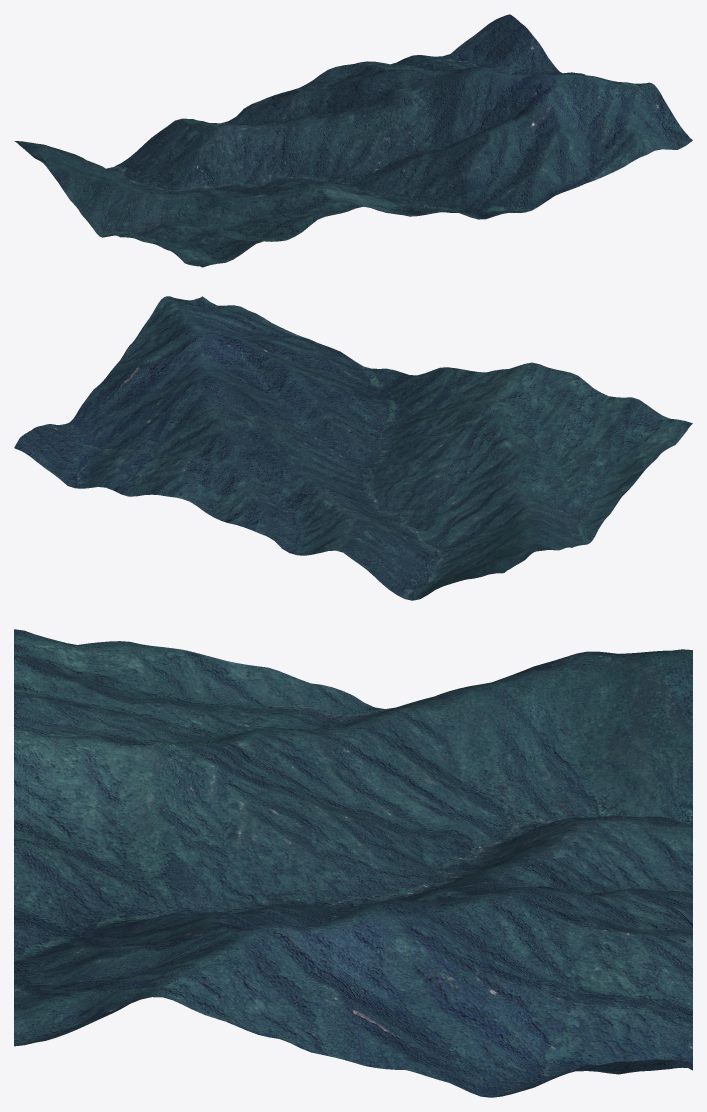
File: Huashan.glb
3 renders of one model, top to bottom at view 1: azimuth 30°, elevation 25°; view 2: azimuth 150°, elevation 25°; view 3: azimuth 270°, elevation 25°, orthographic. The views are drawn at different scales.
Parts seen in each view (by area): view 1: EXPORT_GOOGLE_SAT_WM; view 2: EXPORT_GOOGLE_SAT_WM; view 3: EXPORT_GOOGLE_SAT_WM.
Part boxes in pixels (x1,y1,x2,y2): EXPORT_GOOGLE_SAT_WM: (14,14,692,267); EXPORT_GOOGLE_SAT_WM: (14,296,692,600); EXPORT_GOOGLE_SAT_WM: (14,629,692,1097).
Bounding box in the file's own units: 2752 × 542 × 1834.
1 material, 1 textured.
